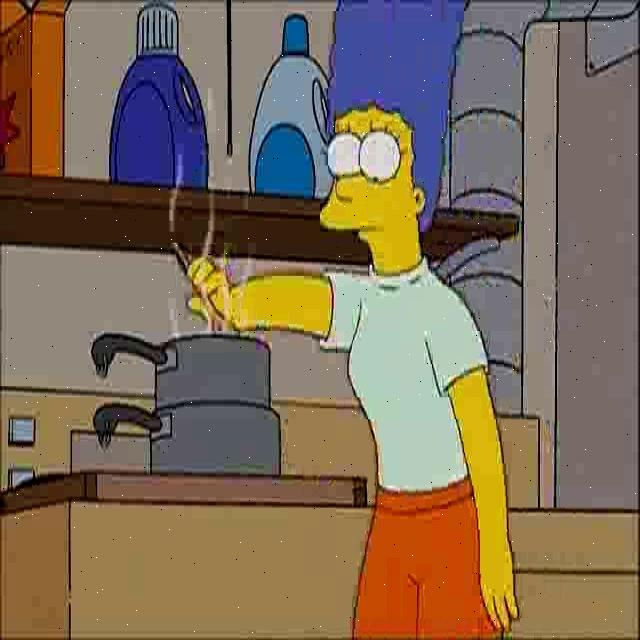Marge Simpson: (316, 0, 469, 278)
